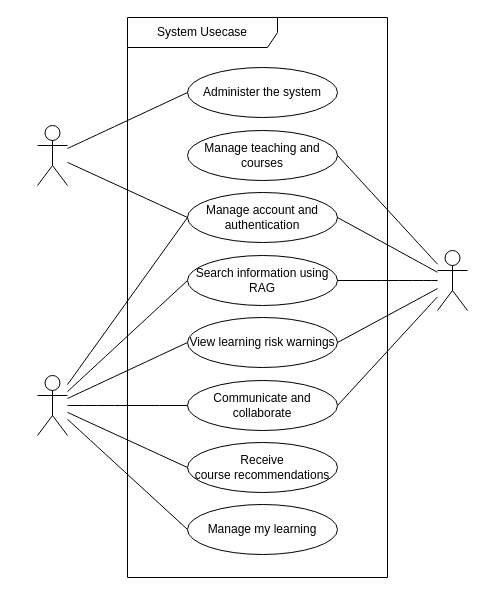
The diagram is 491 pixels wide and 595 high, and some of its shapes have lost their labels. The shapes that lost their labels are listed below. From the top down, each one's centre as x and y in pixels, then its label:
[52,155]: Administrator
[452,280]: Teacher
[52,405]: Student
